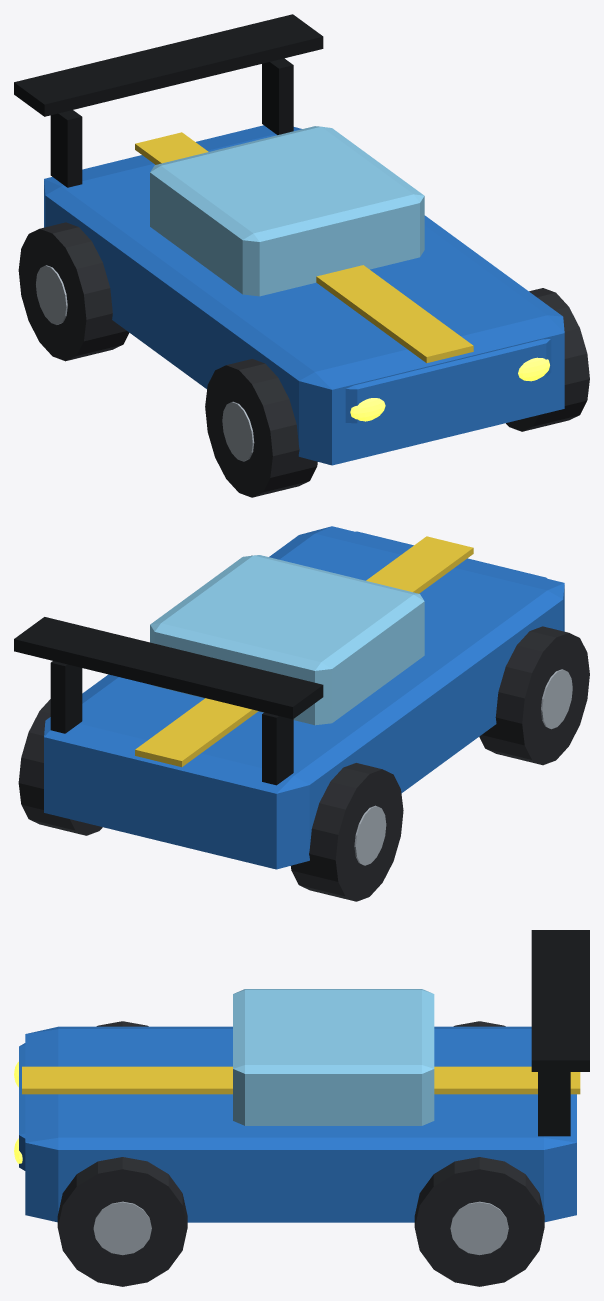
The model's file is rival-car-lod0.glb.
3 views of the same model, one above another, from view 1: azimuth 30°, elevation 25°; view 2: azimuth 150°, elevation 25°; view 3: azimuth 270°, elevation 25° (orthographic). The views are drawn at different scales.
Parts seen in each view (by area): view 1: rival-car; view 2: rival-car; view 3: rival-car.
Boxes of the visible parts, x1,y1,x2,y2 form: rival-car: (14,14,589,497); rival-car: (14,526,589,901); rival-car: (14,930,589,1286).
Bounding box in the file's own units: 1.09 × 0.74 × 1.78.
